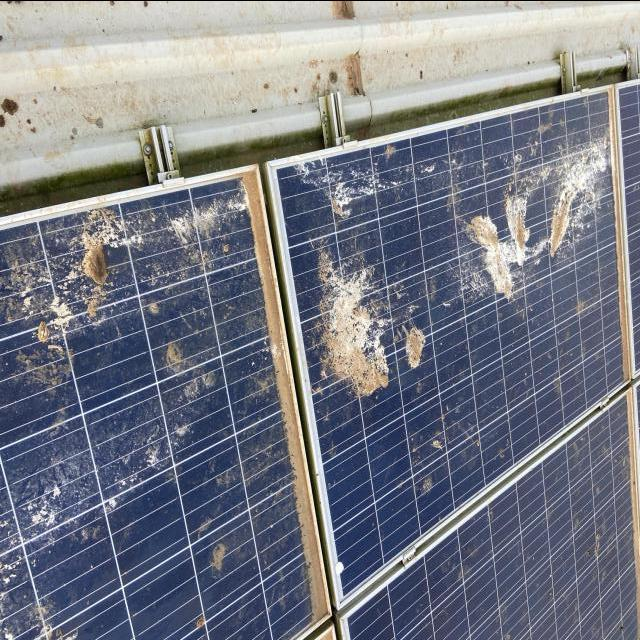soiled: (265, 87, 638, 630), (0, 146, 328, 638)
